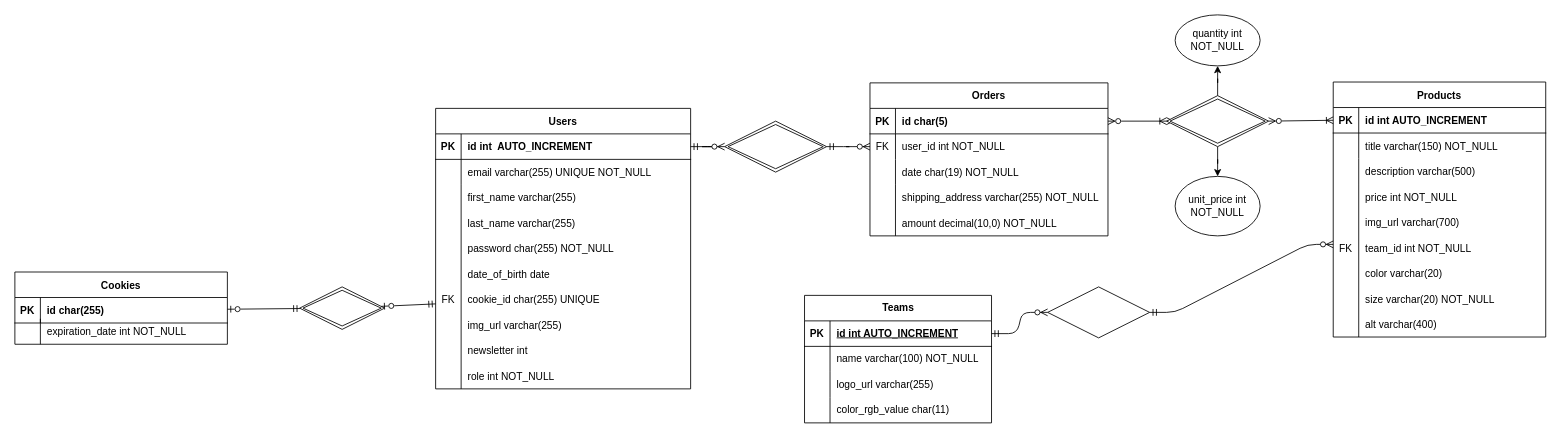
Image size: 1561x438. Some labels were removed from this diagram. The shapes that lost their labels are listed below. From the top down, each one's centre as x and y in pixels, then its label:
At pixel 1217 121: "contains".
At pixel 775 146: "instructs".
At pixel 342 307: "has".
At pixel 1098 312: "belongs".
